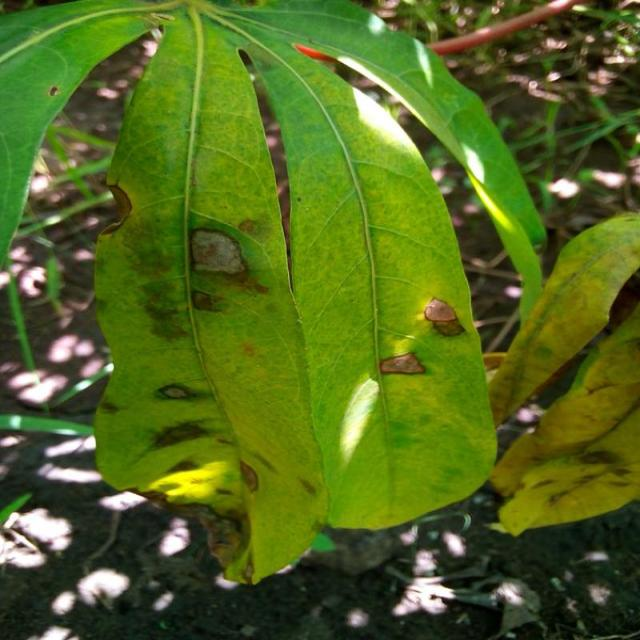cassava leaf: (91, 2, 502, 585)
